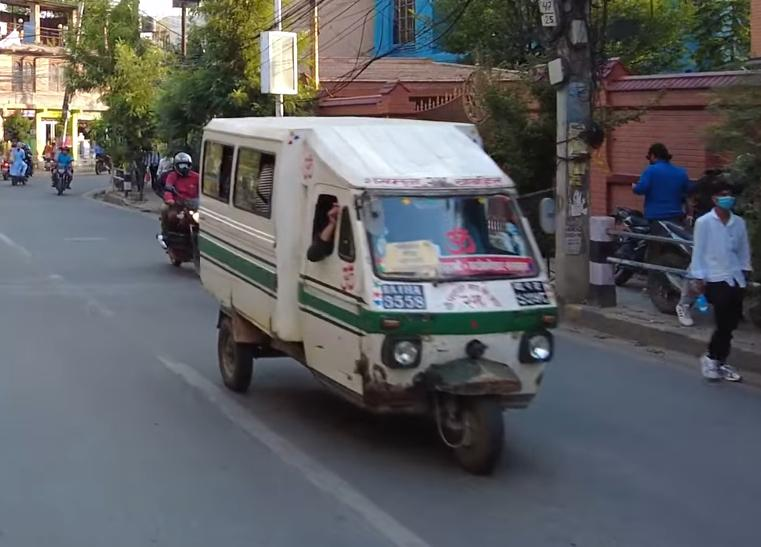bike: (155, 179, 210, 267), (48, 155, 74, 197)
tempo: (191, 104, 563, 476)
